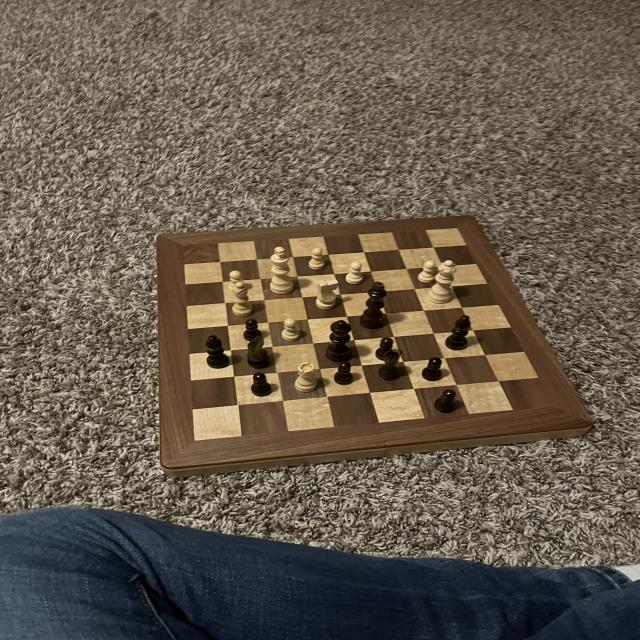bishop: (443, 313, 473, 353), (203, 333, 232, 370)
black-bishop: (359, 281, 390, 331)
black-king: (244, 334, 273, 370)
black-knight: (420, 355, 446, 382), (434, 386, 458, 415), (248, 372, 274, 398), (242, 316, 264, 342), (374, 336, 397, 359), (332, 361, 353, 386)
black-pawn: (324, 318, 356, 364)
black-queen: (375, 349, 406, 381)
black-rook: (230, 280, 256, 316)
white-bishop: (268, 244, 296, 295)
white-king: (313, 277, 340, 311)
white-knight: (279, 318, 304, 343), (343, 261, 367, 286), (226, 268, 247, 294), (418, 259, 438, 284), (308, 247, 326, 271)
white-pawn: (430, 259, 460, 305)
white-queen: (293, 361, 320, 393)
